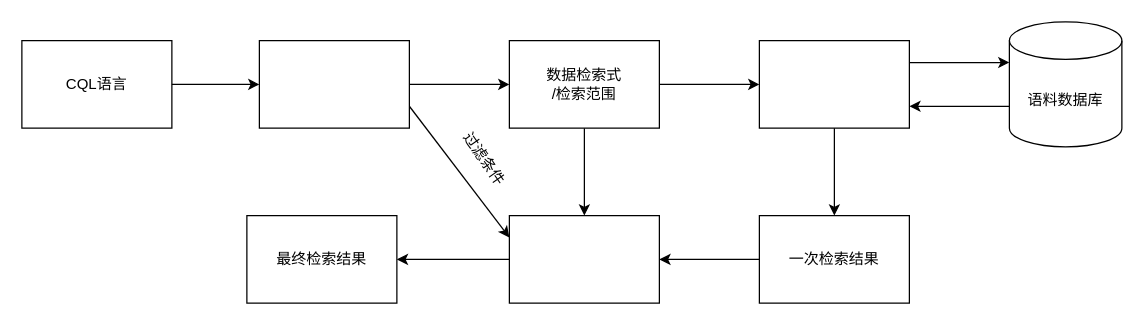
Some shapes in this 1144 by 325 pixel diagram are drawn without their labels. Each missing label, with the centre of its shape:
"ANTLR" belongs at pixel 333 83.
"候选过滤" belongs at pixel 583 258.
"数据检索" belongs at pixel 833 83.
